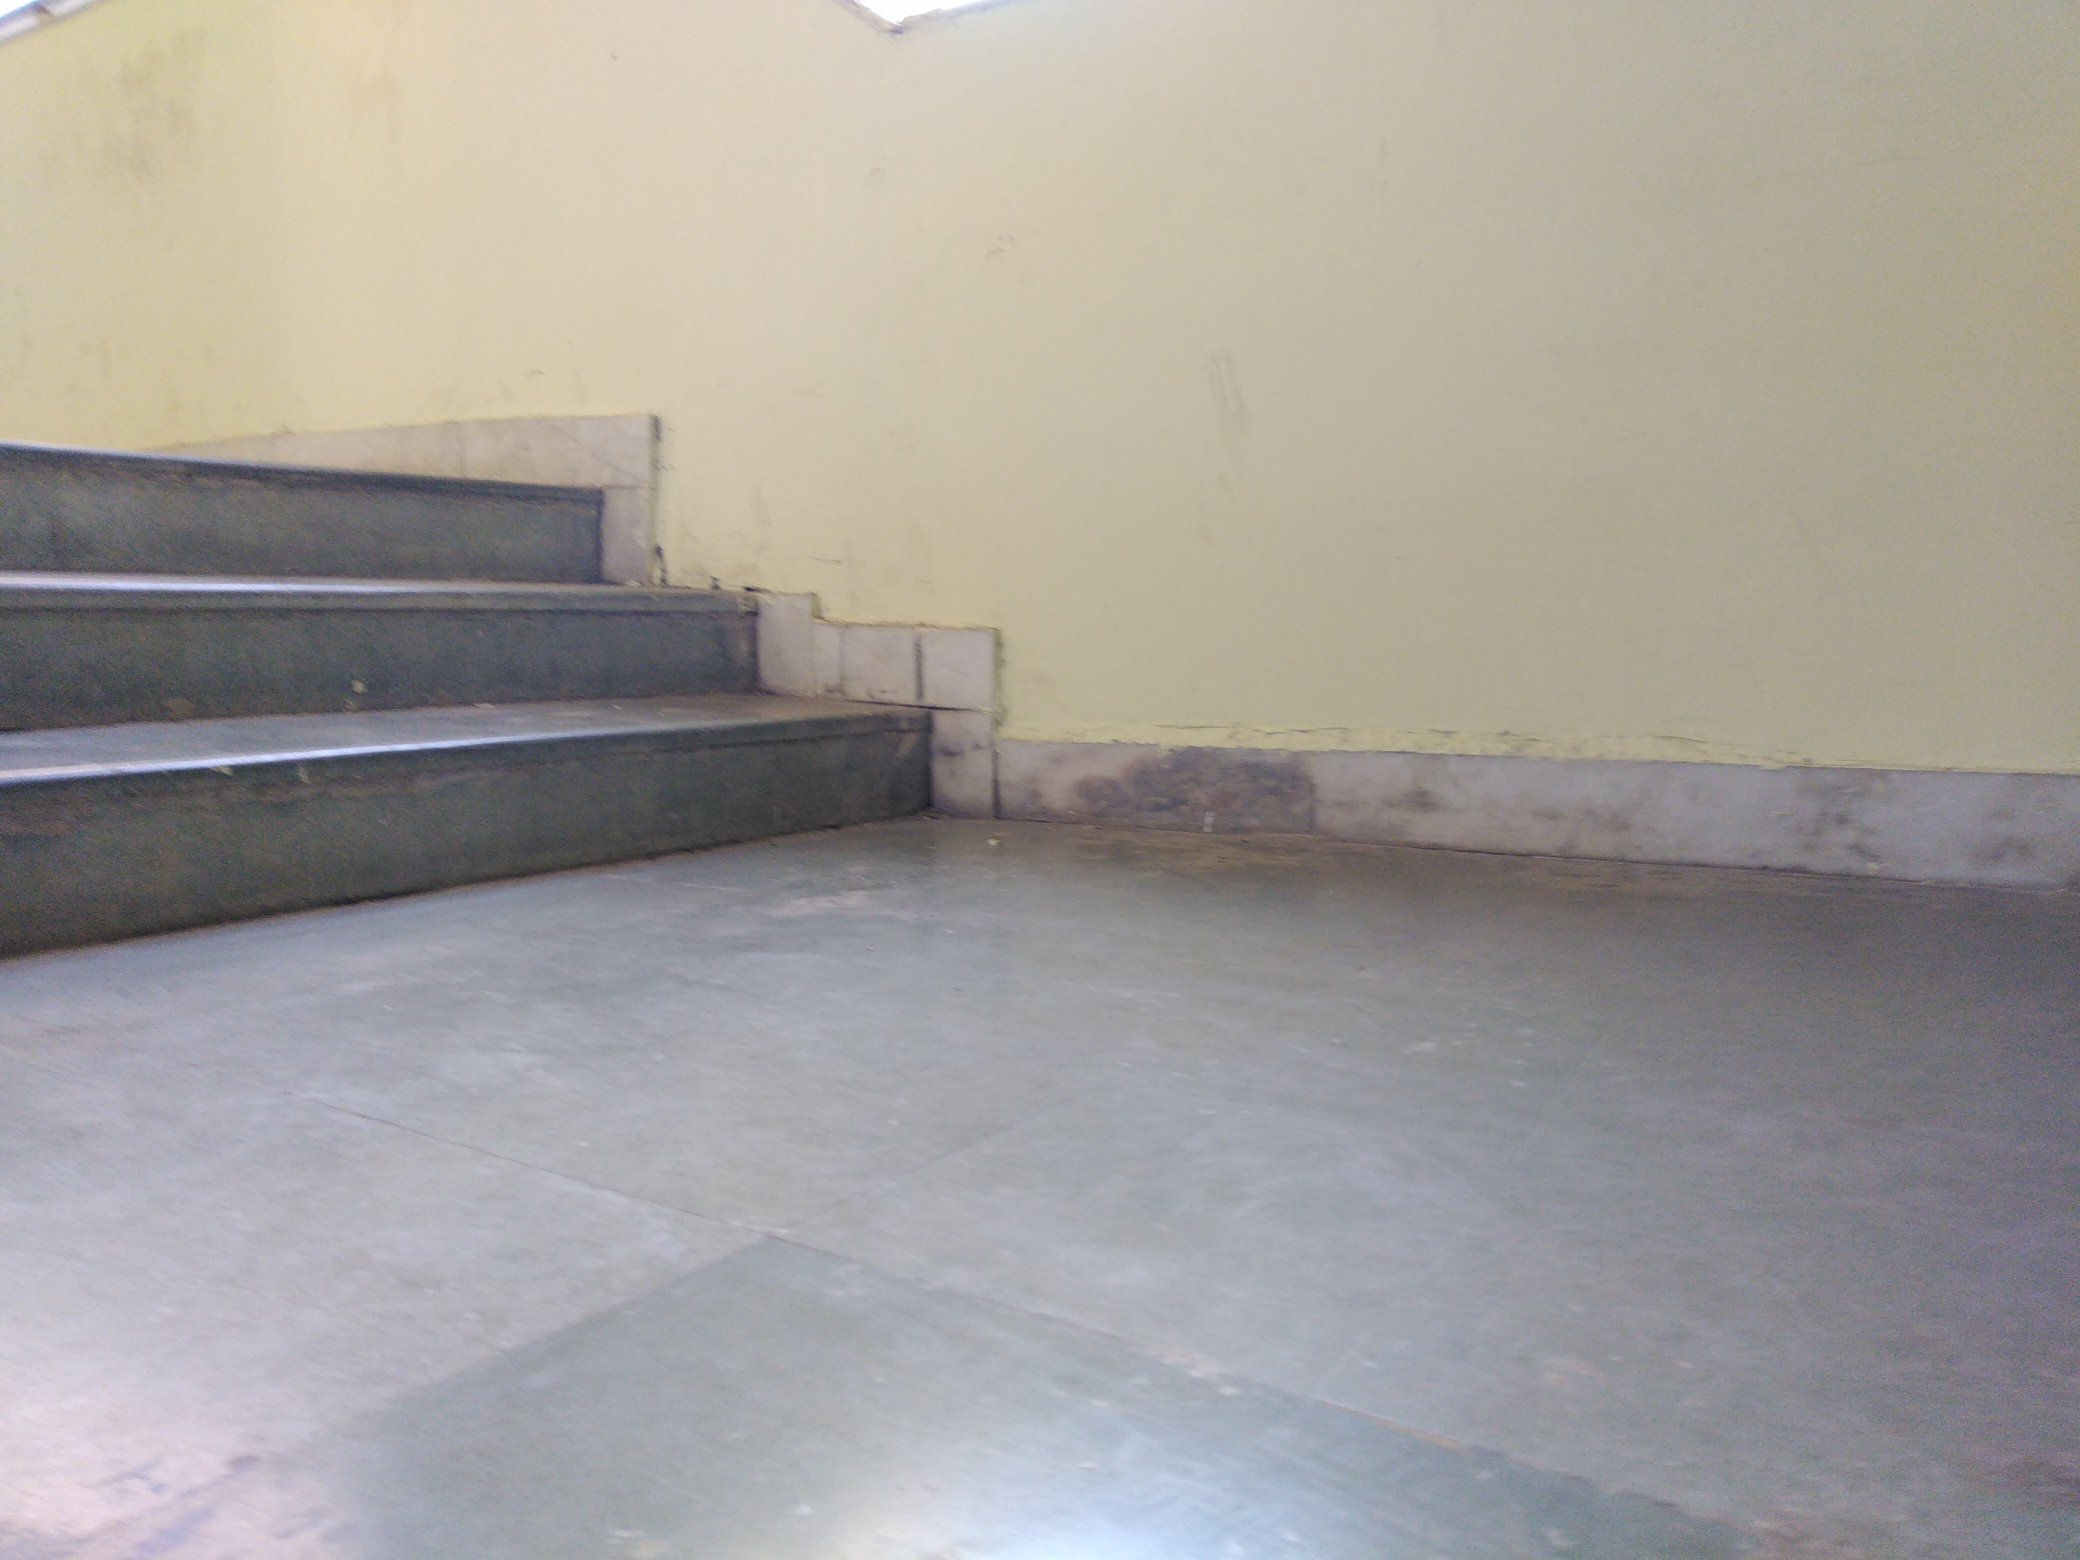stairs_up: (3, 447, 932, 826)
